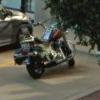Motorcycle: (10, 23, 89, 85)
